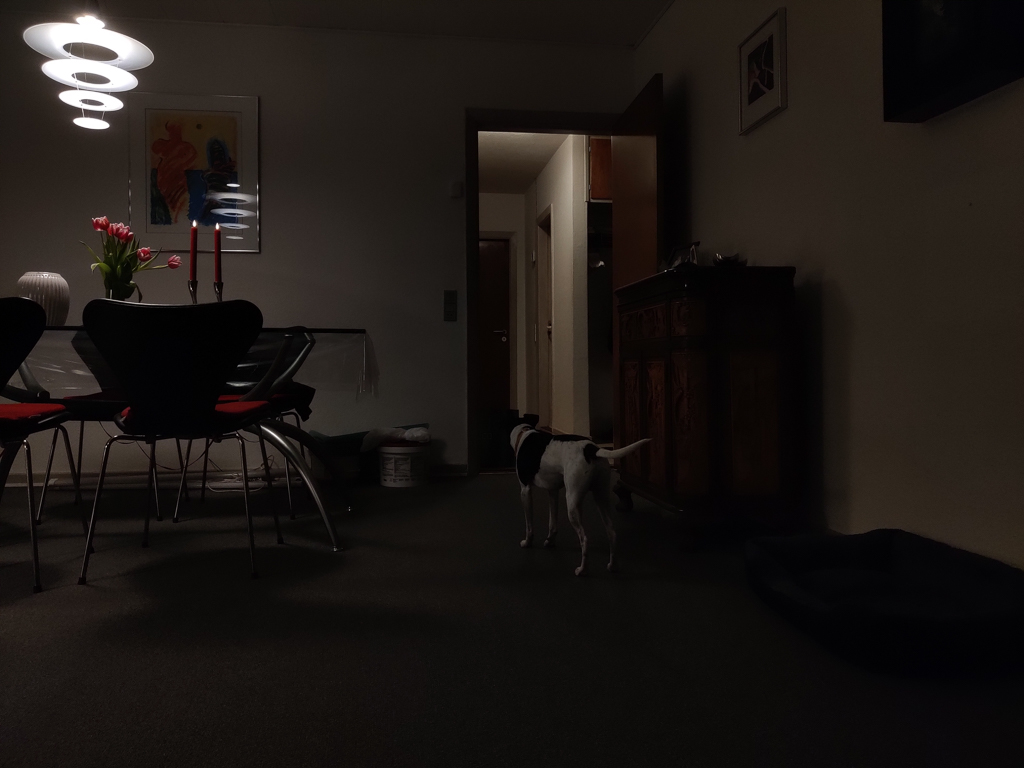Dog: (488, 406, 659, 581)
